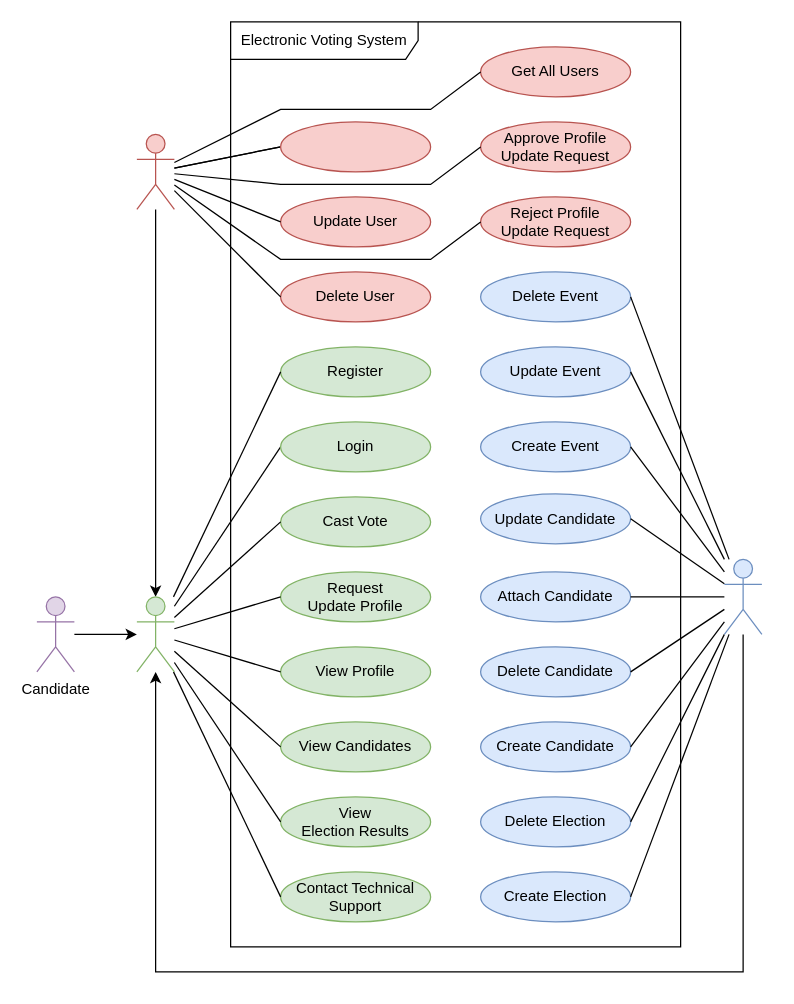
This 794x1004 diagram has some shape labels left out. Here are the shapes that lost their labels. From the top down, the centre of each, then its label:
At (x=355, y=146): "Create User".
At (x=155, y=171): "Admin".
At (x=742, y=596): "Manager".
At (x=155, y=634): "User".
